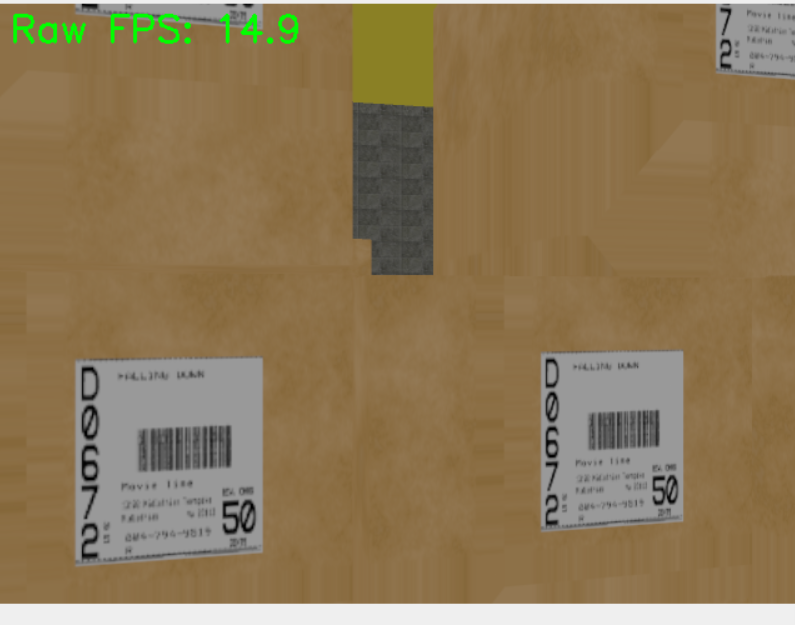barcode: (73, 357, 266, 566), (537, 350, 685, 531)
